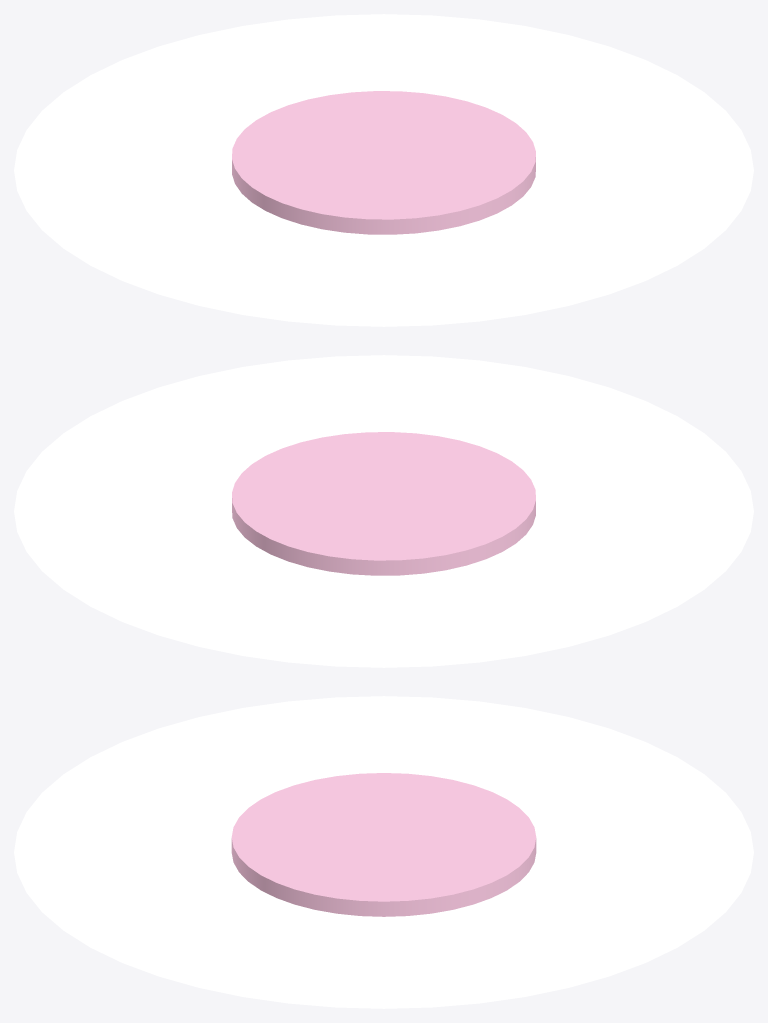
The model's file is pad-ff9ecd.glb.
3 views of the same model, one above another, from view 1: azimuth 30°, elevation 25°; view 2: azimuth 150°, elevation 25°; view 3: azimuth 270°, elevation 25° (orthographic).
Parts seen in each view (by area): view 1: plat; view 2: plat; view 3: plat.
Part boxes in pixels (x1,y1,x2,y2): plat: (14,14,753,326); plat: (14,355,753,667); plat: (14,696,753,1008).
Size of the model in its own units: 3.4 by 0.08 by 3.4.
2 materials, 2 textured.
